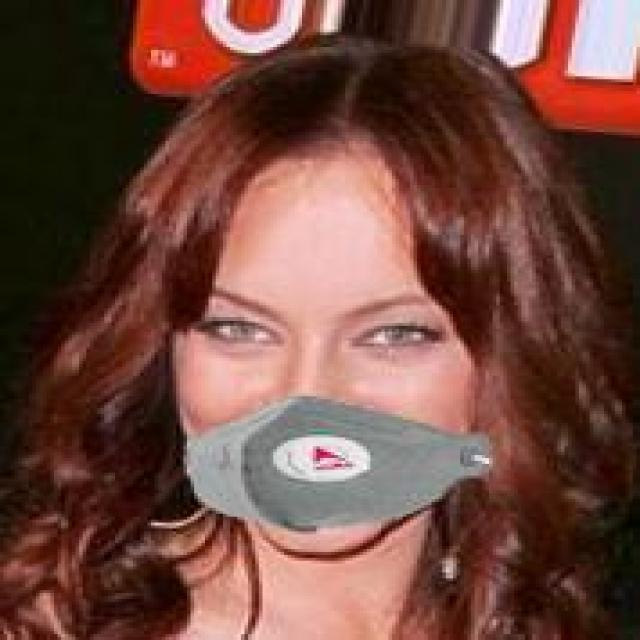mask: (144, 74, 572, 566)
